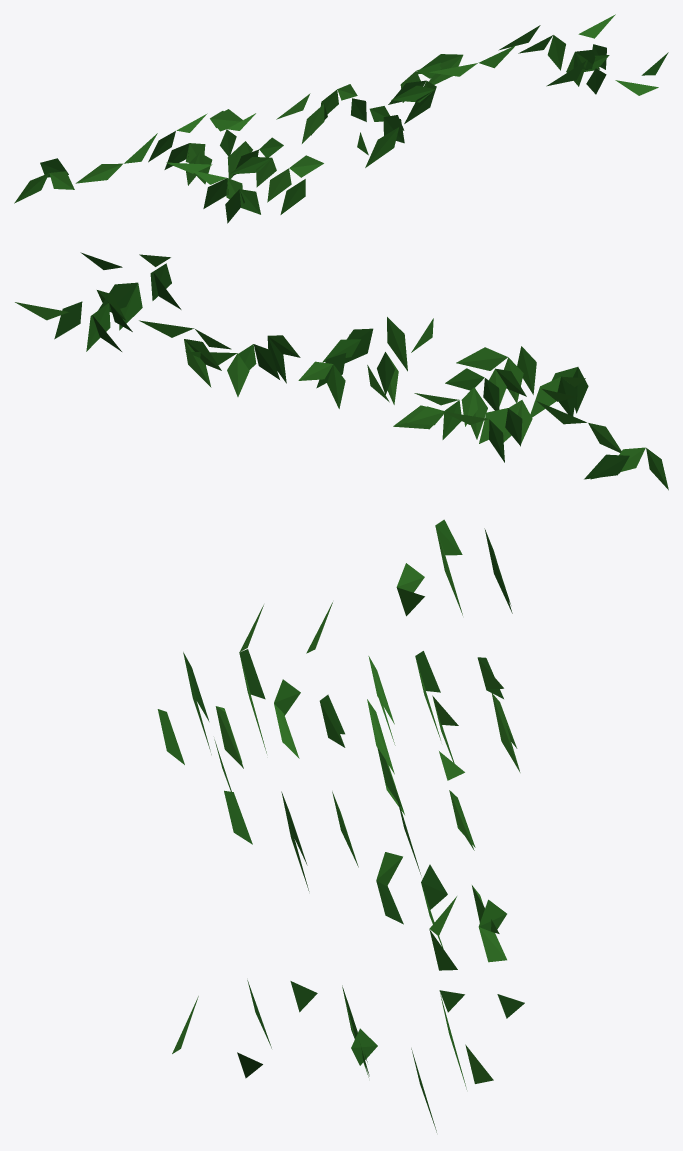
3 views of the same model, one above another, from view 1: azimuth 30°, elevation 25°; view 2: azimuth 150°, elevation 25°; view 3: azimuth 270°, elevation 25° (orthographic). The views are drawn at different scales.
Visible parts, largest first — view 1: r11c0_l11; view 2: r11c0_l11; view 3: r11c0_l11.
Part boxes in pixels (x1=…): r11c0_l11: x1=14, y1=14, x2=668, y2=223; r11c0_l11: x1=15, y1=252, x2=668, y2=490; r11c0_l11: x1=157, y1=519, x2=524, y2=1132.
Bounding box in the file's own units: 2.31 × 0.2225 × 0.603.
